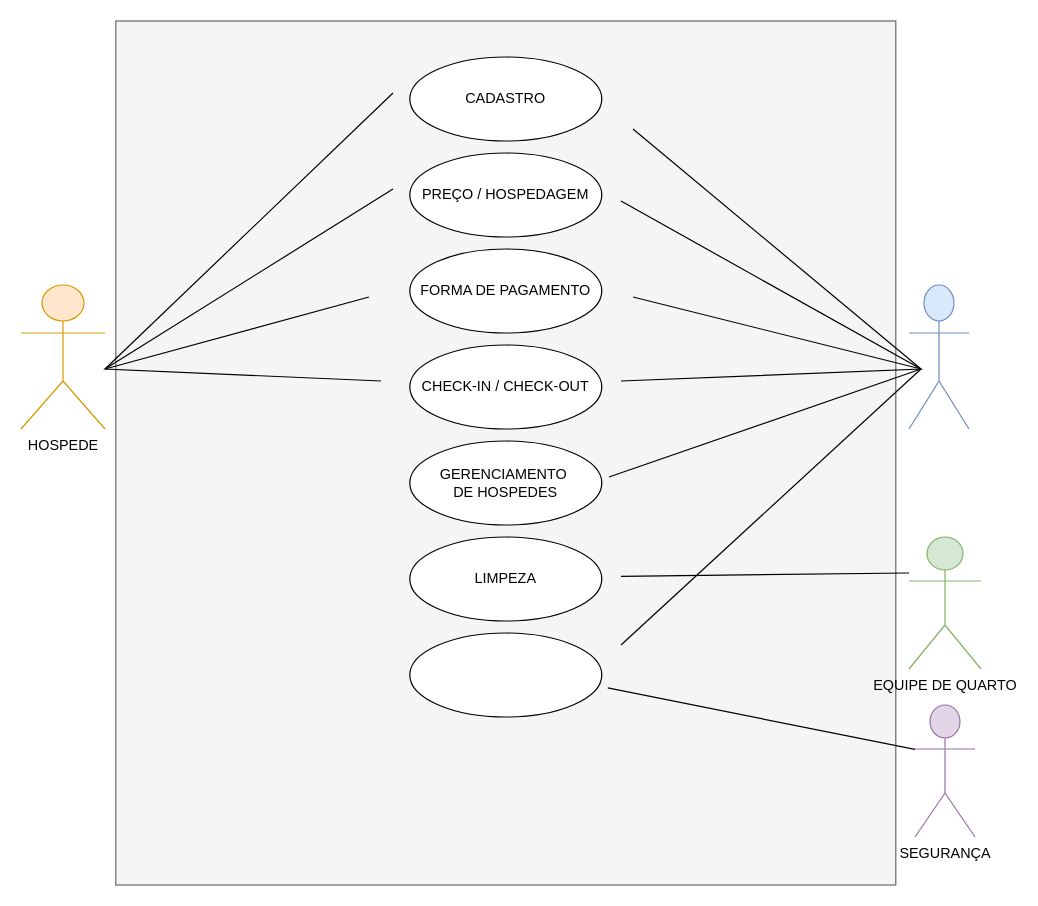
Some shapes in this 1038 by 906 pixel diagram are drawn without their labels. The shapes that lost their labels are listed below. From the top down, each one's box as (x1, y1, x2, y2) in pixels, then its label:
(908, 284, 969, 429): RECEPÇÃO
(409, 632, 602, 717): GERENCIAMENTO DO HOTEL
